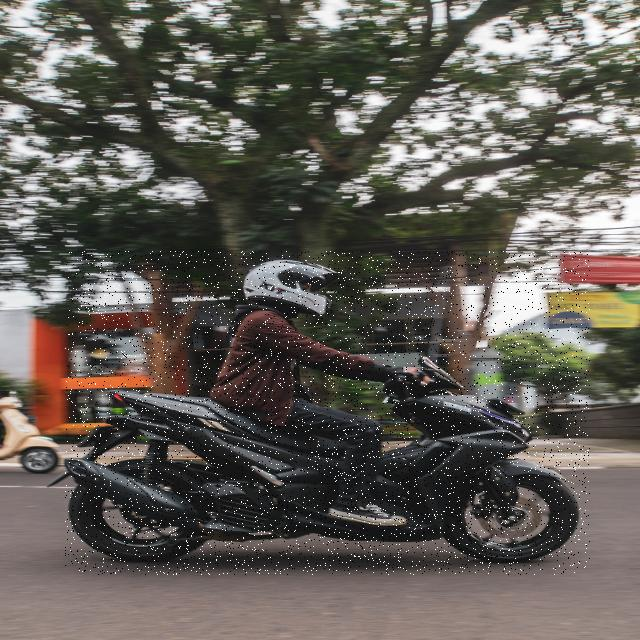With Helmet: (65, 251, 590, 575)
